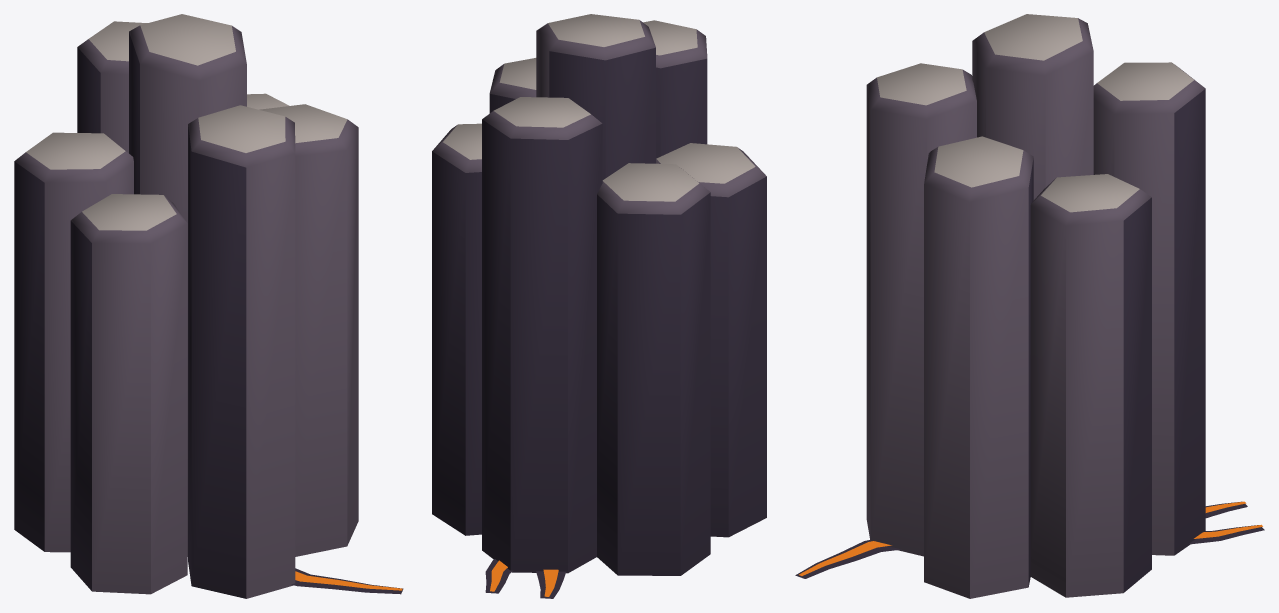
The model's file is BasaltBlockA.fbx.
The picture shows the model from 3 angles, left to right: view 1: azimuth 30°, elevation 25°; view 2: azimuth 150°, elevation 25°; view 3: azimuth 270°, elevation 25°; orthographic projection. The views are drawn at different scales.
Parts seen in each view (by area): view 1: BasaltBlockA; view 2: BasaltBlockA; view 3: BasaltBlockA.
Part boxes in pixels (box(x1,y1,x2,y2)): BasaltBlockA: box(14, 14, 403, 598); BasaltBlockA: box(432, 14, 766, 598); BasaltBlockA: box(795, 14, 1264, 598).
Size of the model in its own units: 1.3 by 2.27 by 1.94.
2 materials, 2 textured.
